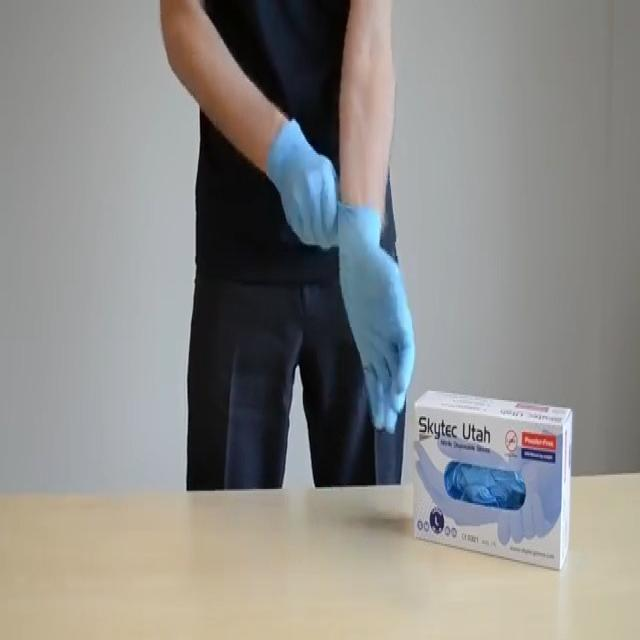Gloves: (330, 192, 435, 446), (260, 115, 337, 247)
